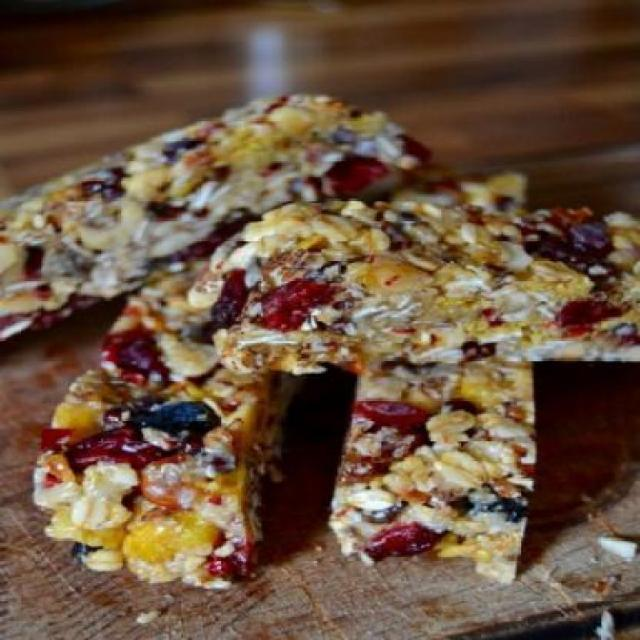Cereal bar packaged: (203, 192, 640, 366)
